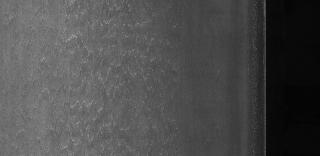silk spot: (41, 96, 189, 154), (52, 41, 184, 91), (62, 3, 168, 36)
